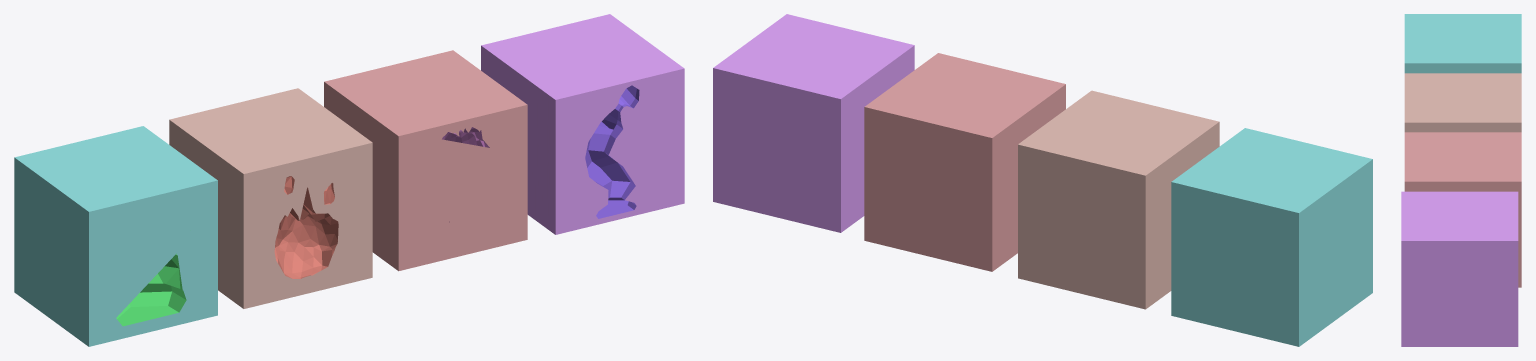
The model's file is tableler 1.fbx.
3 views of the same model, side by side, from view 1: azimuth 30°, elevation 25°; view 2: azimuth 150°, elevation 25°; view 3: azimuth 270°, elevation 25° (orthographic). The views are drawn at different scales.
Visible parts, largest first — view 1: green_table, blue_table, purple_table, red_table; view 2: green_table, purple_table, red_table, blue_table; view 3: blue_table, purple_table, green_table, red_table.
Part boxes in pixels (<box>): green_table: <box>14,126,217,346</box>; blue_table: <box>481,14,684,234</box>; purple_table: <box>324,50,527,271</box>; red_table: <box>169,88,372,308</box>; green_table: <box>1171,128,1372,346</box>; purple_table: <box>864,53,1065,271</box>; red_table: <box>1018,90,1219,309</box>; blue_table: <box>713,14,914,232</box>; blue_table: <box>1401,191,1518,346</box>; purple_table: <box>1404,132,1521,287</box>; green_table: <box>1404,14,1521,73</box>; red_table: <box>1404,73,1521,132</box>.
Size of the model in its own units: 460 by 100 by 103.
